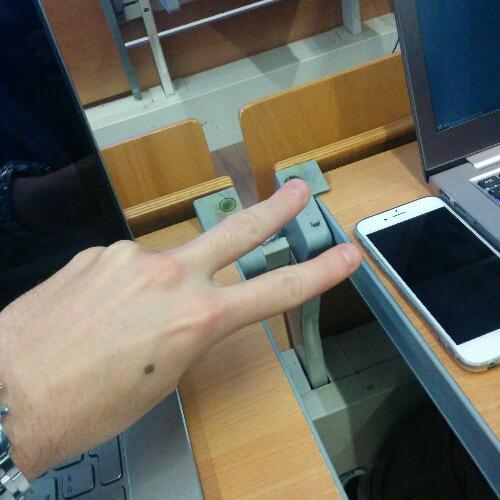scissors: (15, 169, 369, 421)
